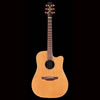guitar: (31, 1, 71, 98)
